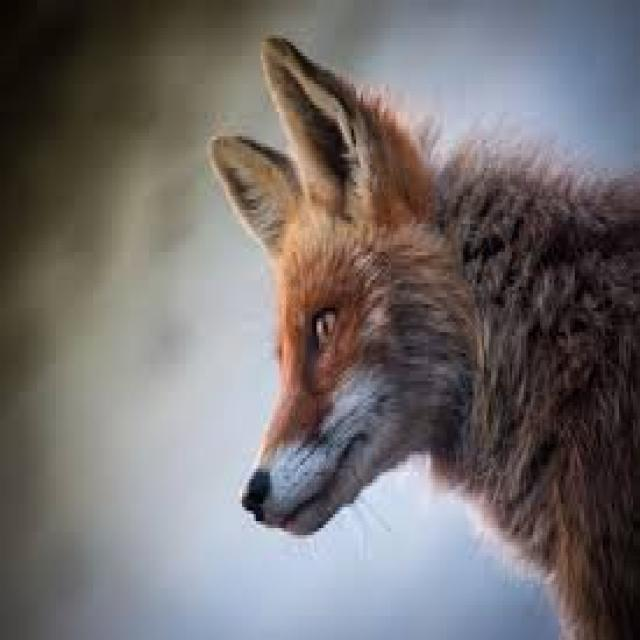fox: (207, 31, 638, 636)
